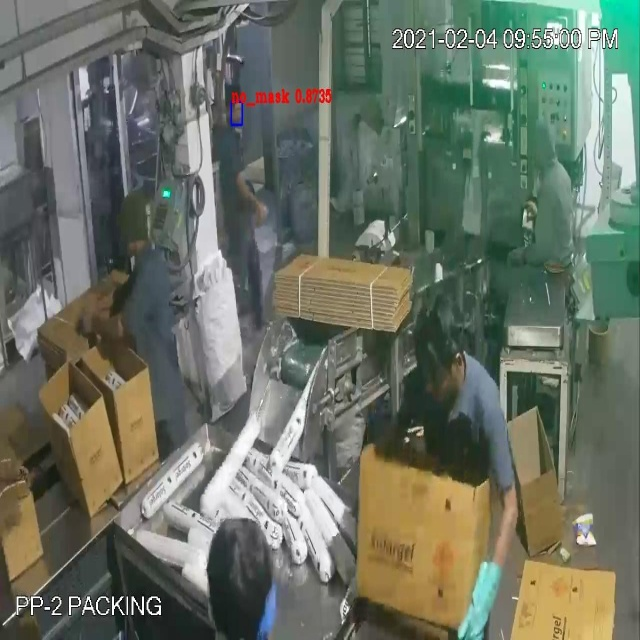Guantes: (443, 460, 524, 639)
Sin_guantes: (228, 156, 279, 241), (76, 291, 133, 353)
